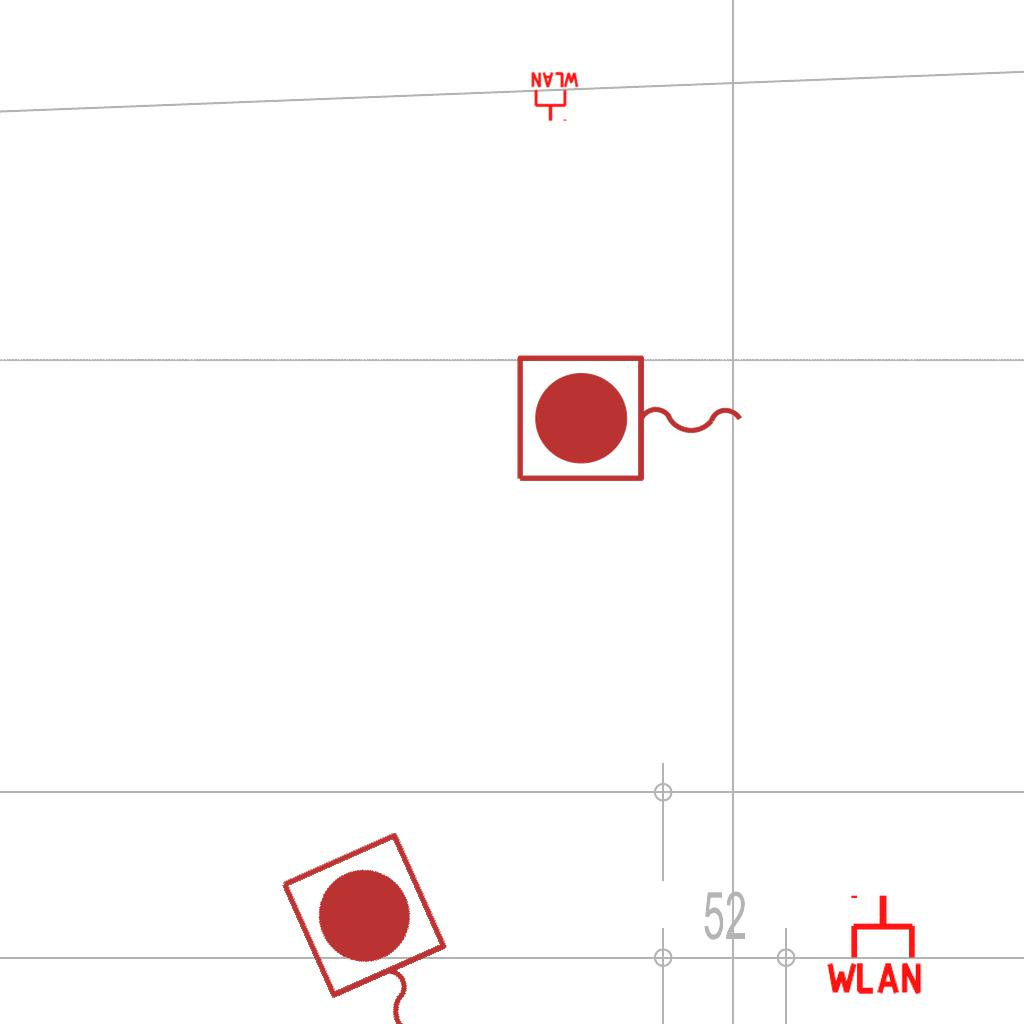WLAN: (822, 891, 926, 996), (529, 71, 581, 123)
Zugtaster: (267, 821, 499, 1024), (509, 348, 753, 492)
